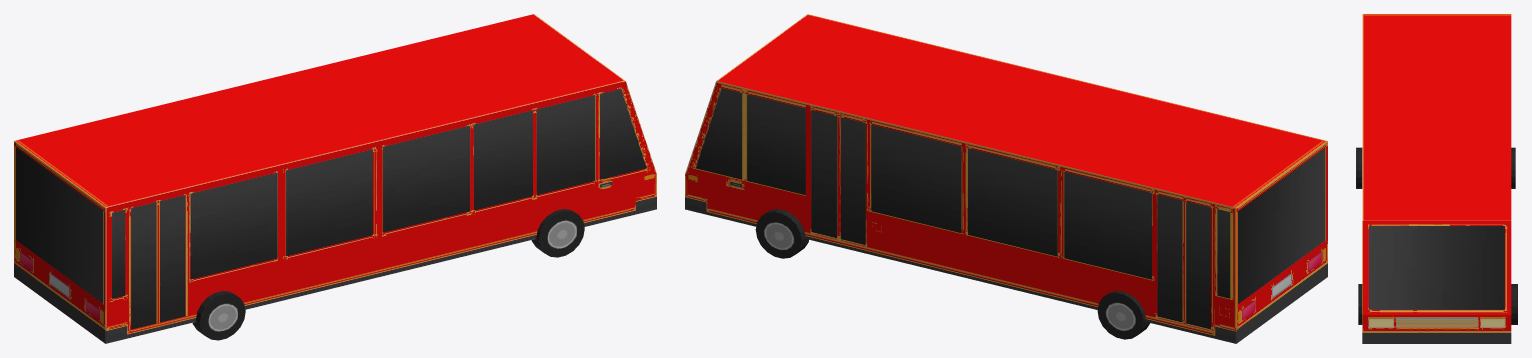
The model's file is red-bus.glb.
The picture shows the model from 3 angles, left to right: view 1: azimuth 30°, elevation 25°; view 2: azimuth 150°, elevation 25°; view 3: azimuth 270°, elevation 25°; orthographic projection. The views are drawn at different scales.
Visible parts, largest first — view 1: Car_12; view 2: Car_12; view 3: Car_12.
Part boxes in pixels (left/top/right/bottom): Car_12: left=14, top=14, right=656, bottom=343; Car_12: left=685, top=14, right=1327, bottom=343; Car_12: left=1356, top=14, right=1517, bottom=343.
Bounding box in the file's own units: 1.81 × 0.4935 × 0.5634.
Materials: 1 (1 with a texture image).
